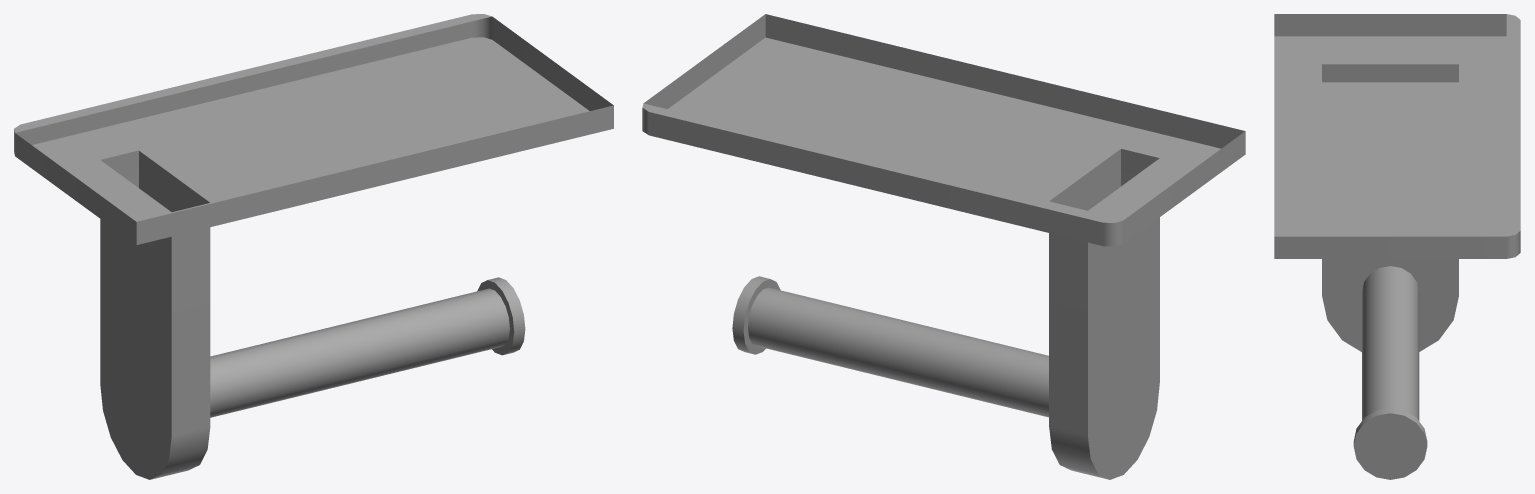
Rendered from ToiletPaperHanger_5_ToiletPaperHanger_5_0.obj.
3 views of the same model, side by side, from view 1: azimuth 30°, elevation 25°; view 2: azimuth 150°, elevation 25°; view 3: azimuth 270°, elevation 25° (orthographic). The views are drawn at different scales.
Visible parts, largest first — view 1: ToiletPaperHanger_5; view 2: ToiletPaperHanger_5; view 3: ToiletPaperHanger_5.
Boxes of the visible parts, x1=… form: ToiletPaperHanger_5: x1=14, y1=14, x2=613, y2=479; ToiletPaperHanger_5: x1=642, y1=14, x2=1245, y2=479; ToiletPaperHanger_5: x1=1274, y1=14, x2=1520, y2=479.
Size of the model in its own units: 0.2147 by 0.1341 by 0.1003.
